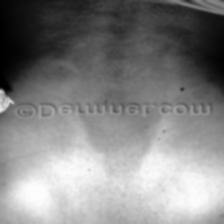Unclassified: (80, 16, 174, 98), (61, 120, 187, 164)
